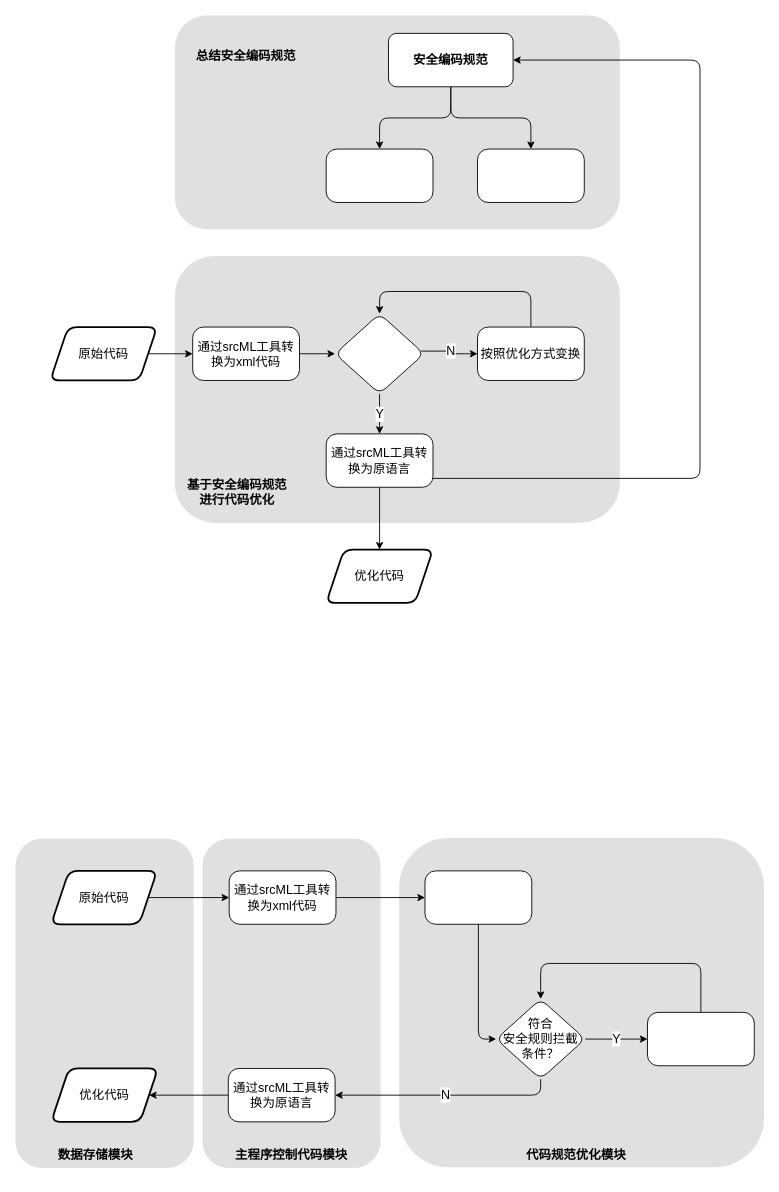
The diagram is 779 pixels wide and 1192 high, and some of its shapes have lost their labels. The centre of each missing label's shape, as x and y in pixels:
分析代码安全问题: (x=379, y=175)
总结代码优化方式: (x=530, y=175)
按照规范进行优化: (x=700, y=1038)
符合 安全编码 规范？: (x=379, y=353)
调用 规范优化 代码: (x=478, y=897)
